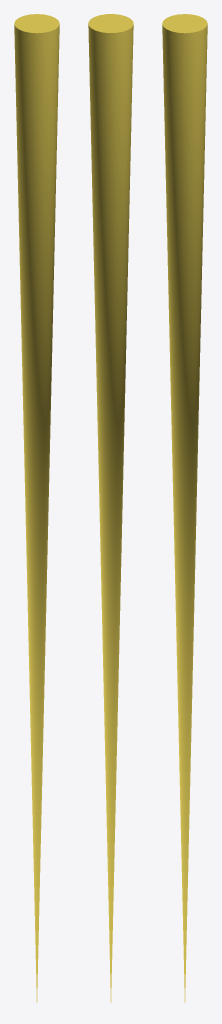
Rendered from glass_light.fbx.
3 views of the same model, side by side, from view 1: azimuth 90°, elevation 25°; view 2: azimuth 210°, elevation 25°; view 3: azimuth 270°, elevation 25° (orthographic).
Visible parts, largest first — view 1: pCone1; view 2: pCone1; view 3: pCone1.
Part boxes in pixels (x1=…): pCone1: x1=14, y1=14, x2=59, y2=1002; pCone1: x1=88, y1=14, x2=133, y2=1002; pCone1: x1=162, y1=14, x2=207, y2=1002.
Size of the model in its own units: 0.3906 by 9.34 by 0.3906.
